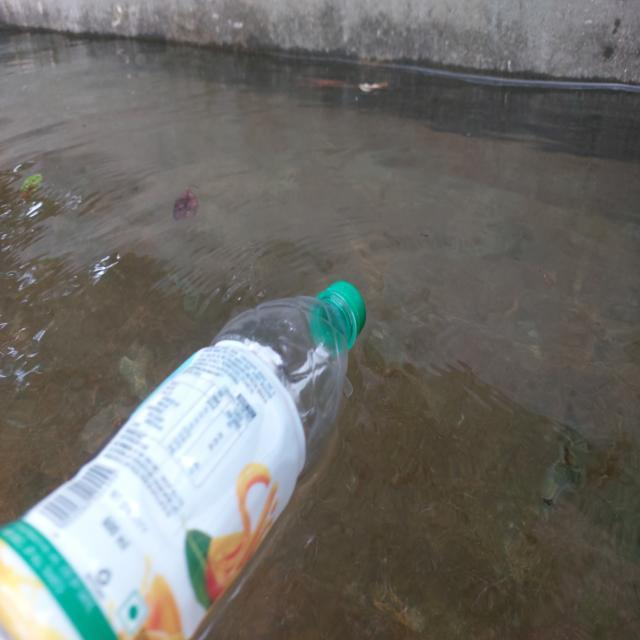leaf: (293, 69, 401, 113), (164, 179, 202, 228), (23, 167, 60, 211)
waterbottle: (0, 261, 387, 640)
